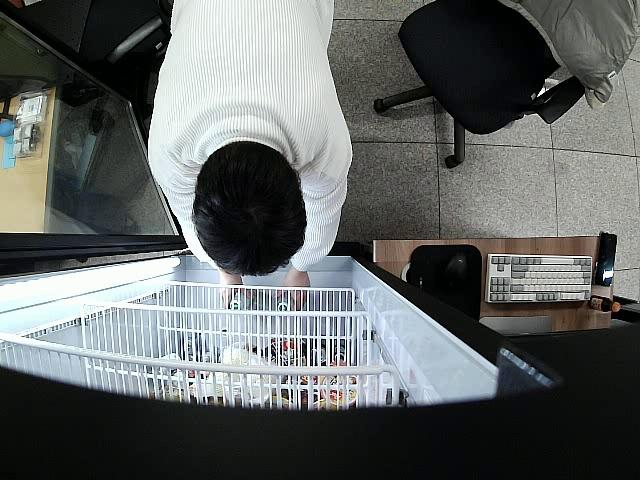18_trevi: (230, 289, 259, 309), (274, 294, 291, 309)
